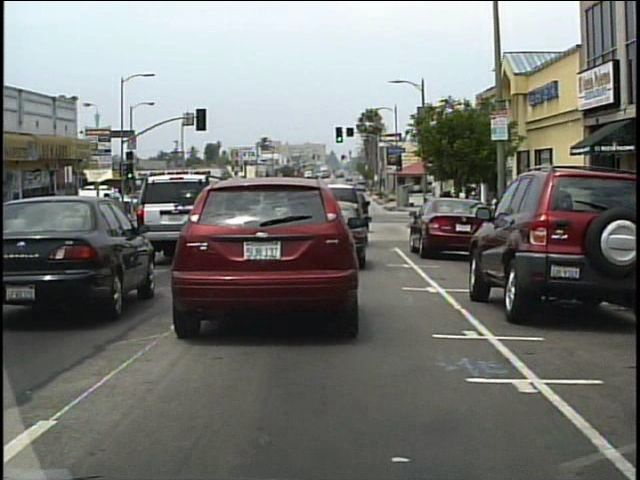person: (455, 192, 468, 232), (445, 193, 456, 232), (467, 189, 480, 221)
